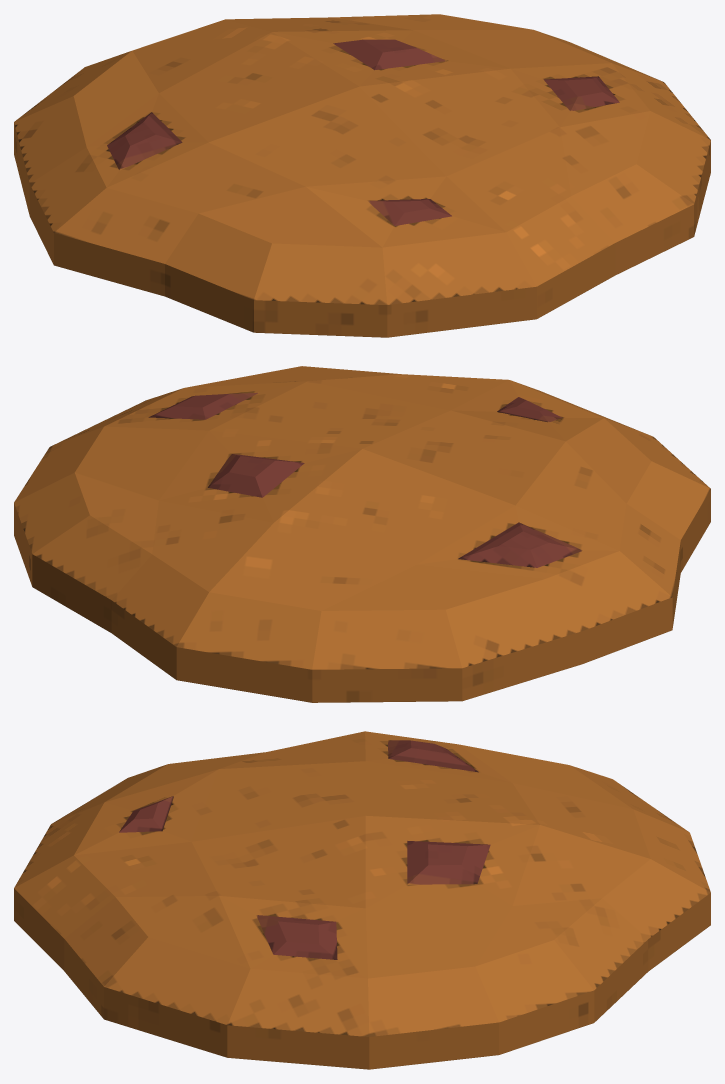
File: Cookie.fbx
3 views of the same model, one above another, from view 1: azimuth 30°, elevation 25°; view 2: azimuth 150°, elevation 25°; view 3: azimuth 270°, elevation 25° (orthographic).
Visible parts, largest first — view 1: Cookie; view 2: Cookie; view 3: Cookie.
Part boxes in pixels (left/top/right/bottom): Cookie: left=14, top=14, right=710, bottom=337; Cookie: left=14, top=366, right=710, bottom=702; Cookie: left=14, top=731, right=710, bottom=1069.
Bounding box in the file's own units: 37.75 × 6.56 × 37.22.
1 material, 1 textured.
